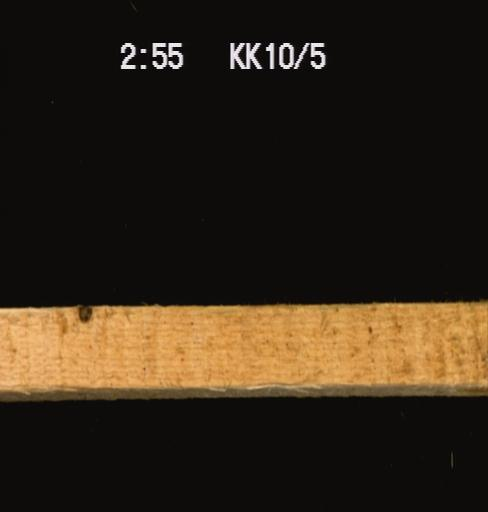edge_knot: (76, 305, 92, 323)
